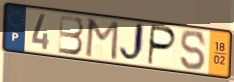4: (31, 13, 51, 51)
B: (57, 13, 85, 56)
J: (118, 21, 146, 65)
M: (83, 17, 120, 63)
P: (146, 23, 179, 67)
S: (180, 29, 208, 72)
